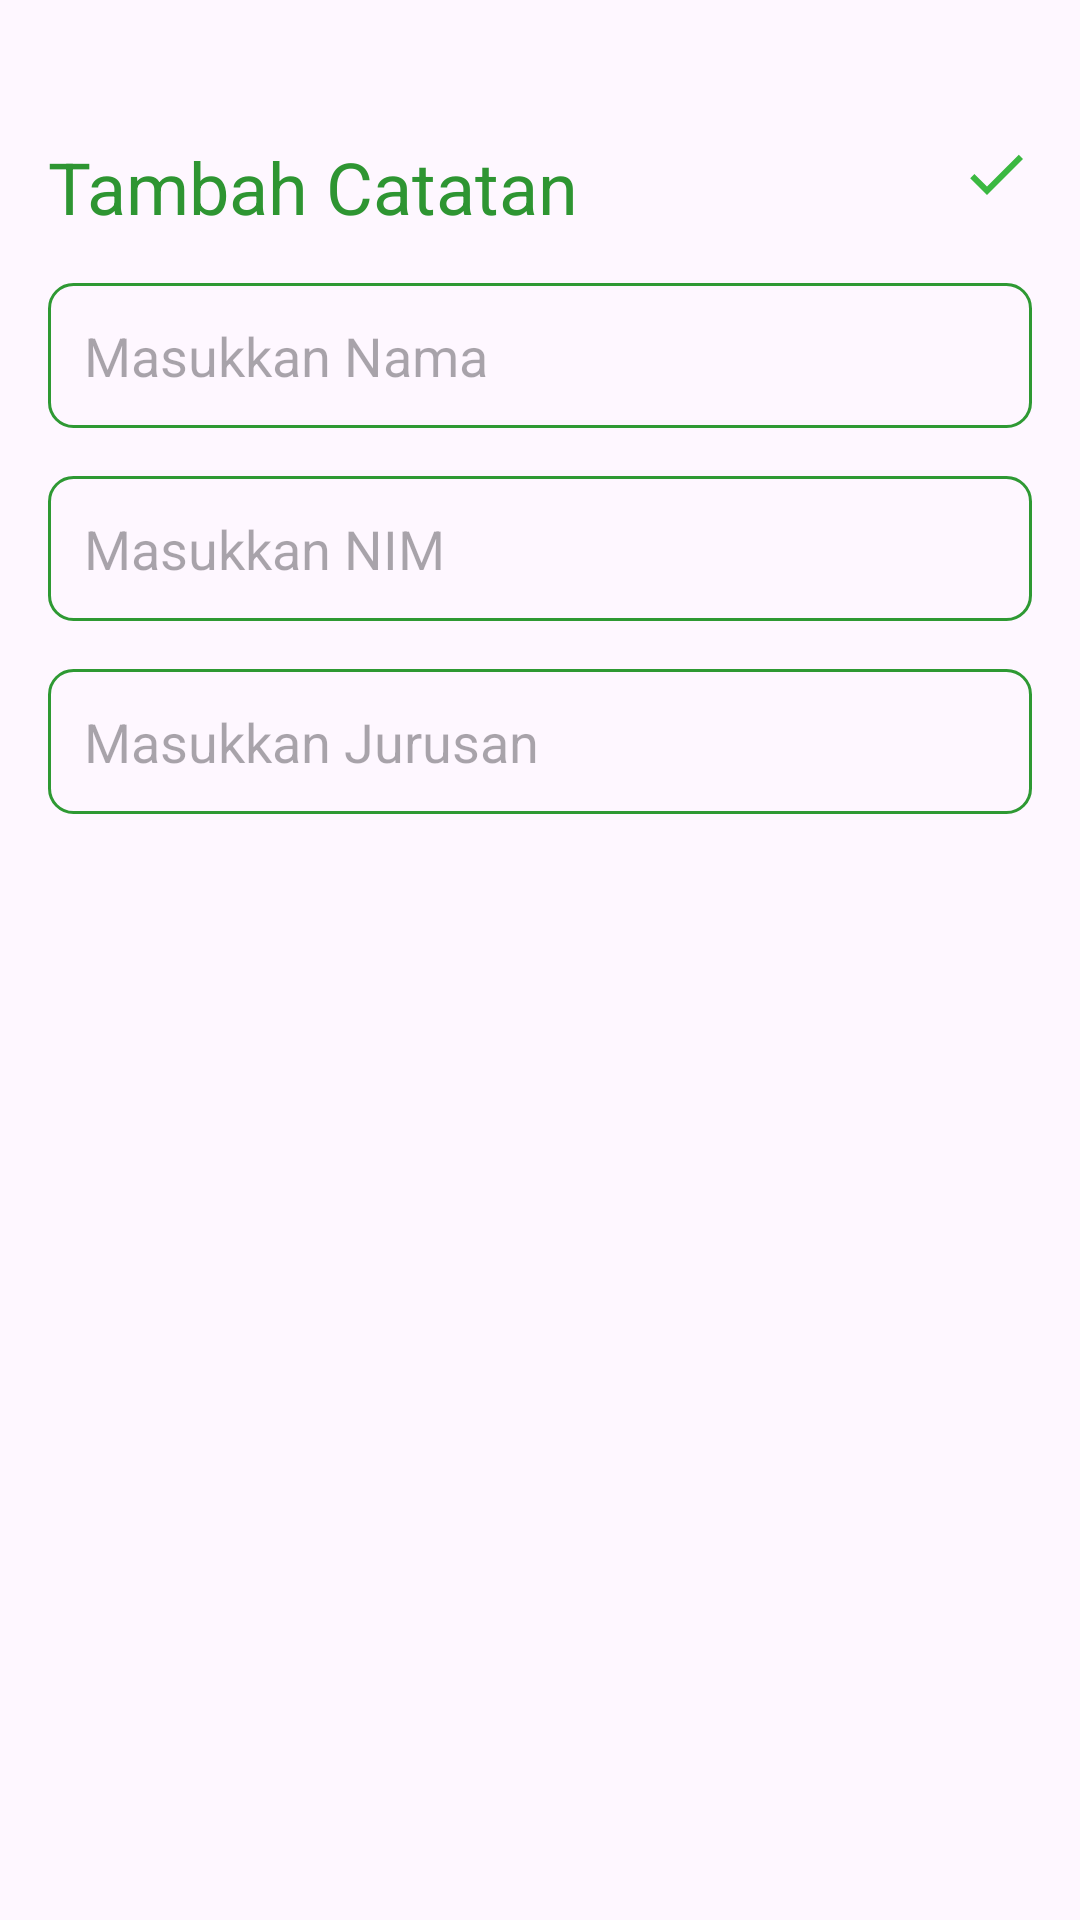

Icon click points for this 1080×1920 phone screenshot, format (x,y):
done: (996,175)
